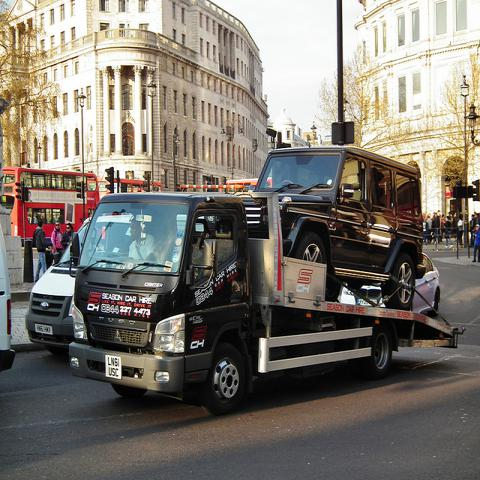bus: (4, 170, 100, 244), (98, 176, 162, 198)
car: (252, 145, 423, 312), (24, 217, 93, 356), (357, 251, 442, 314), (0, 232, 14, 368)
truck: (68, 193, 457, 414)
